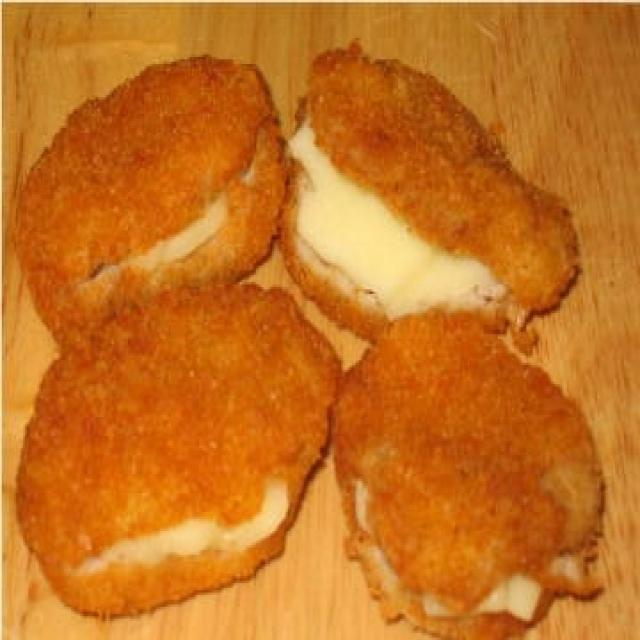鸡肉料理 含炸鸡: (11, 43, 620, 633)
